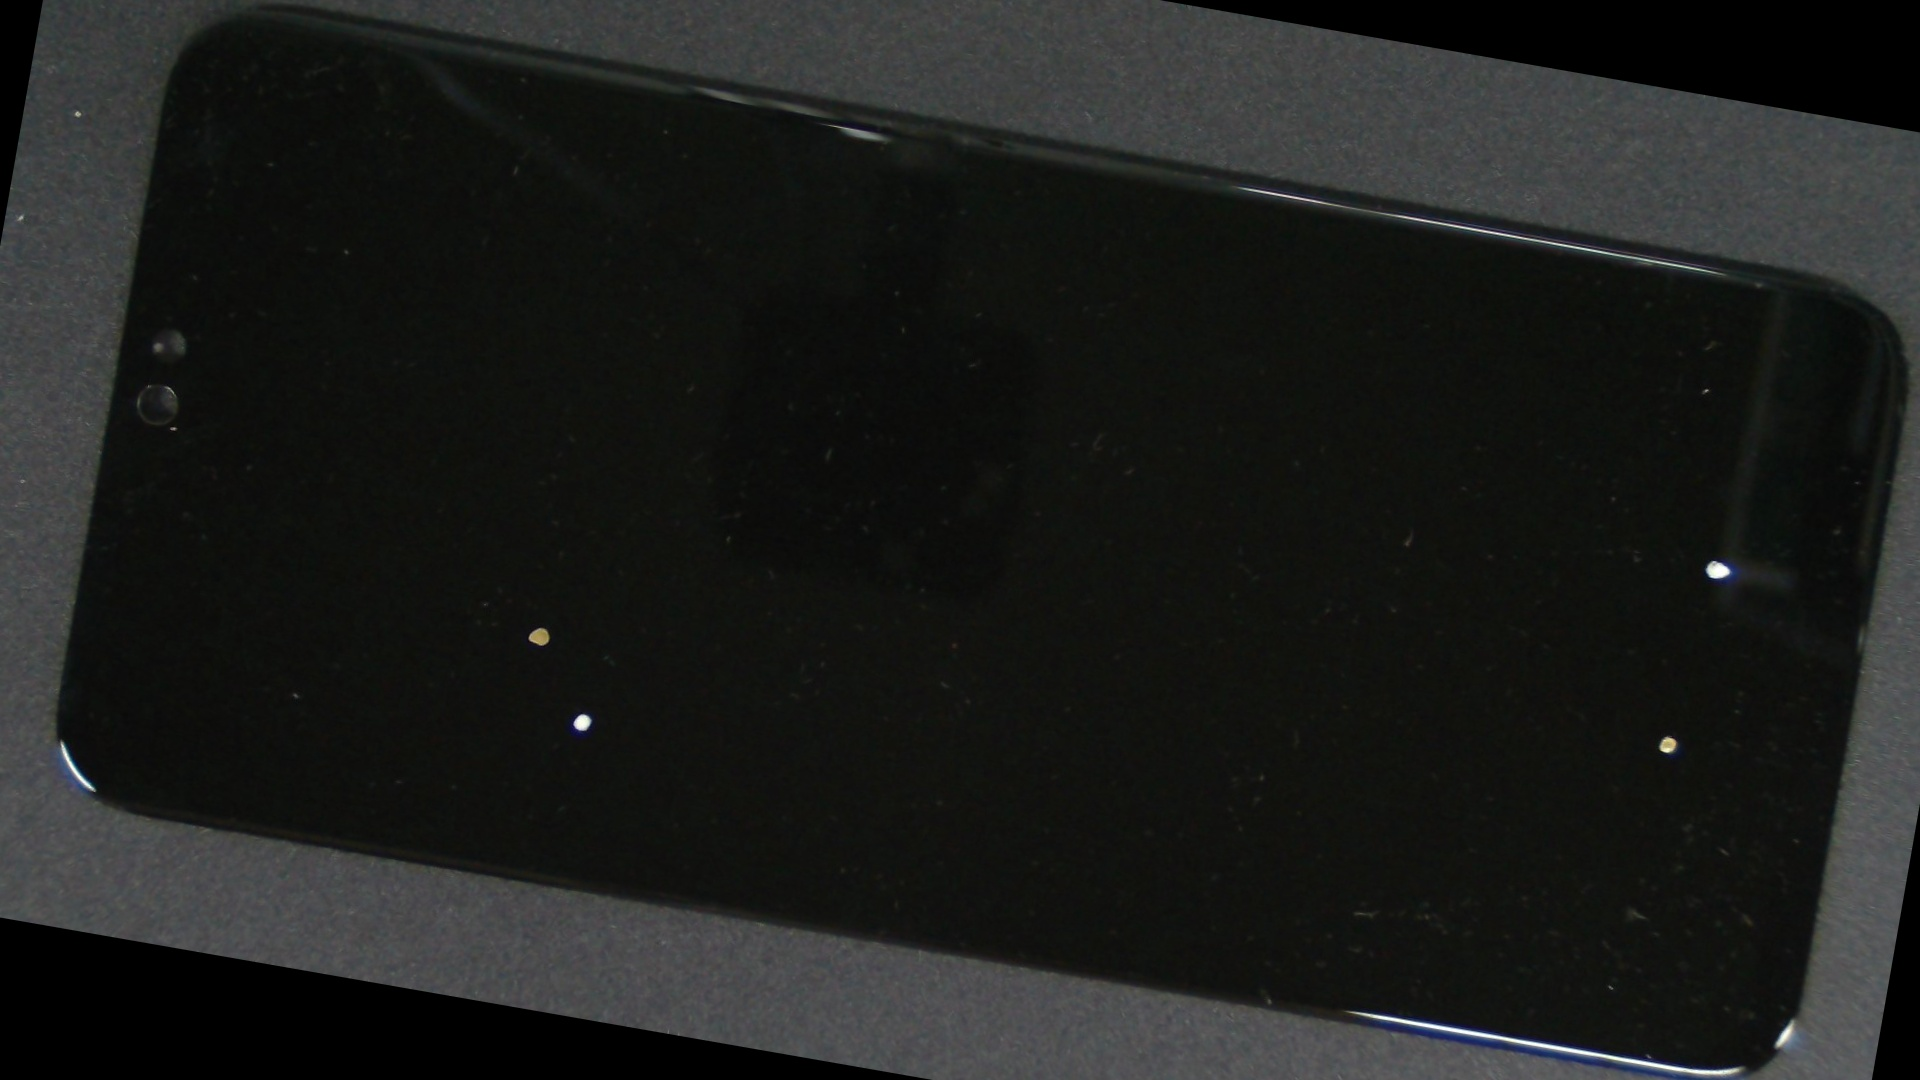oil: (762, 272, 1920, 1080), (818, 185, 1920, 825), (210, 261, 973, 1065), (186, 219, 899, 1034)
